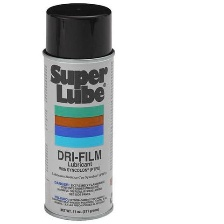aerosol_cans: (39, 2, 120, 222)
